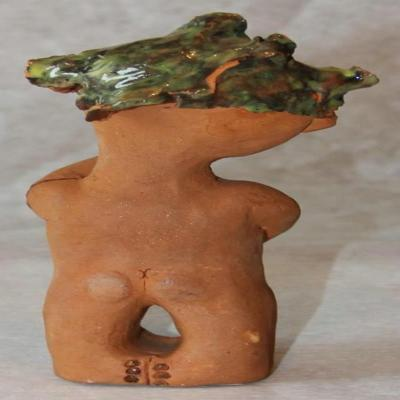sculpture: (25, 12, 378, 389)
